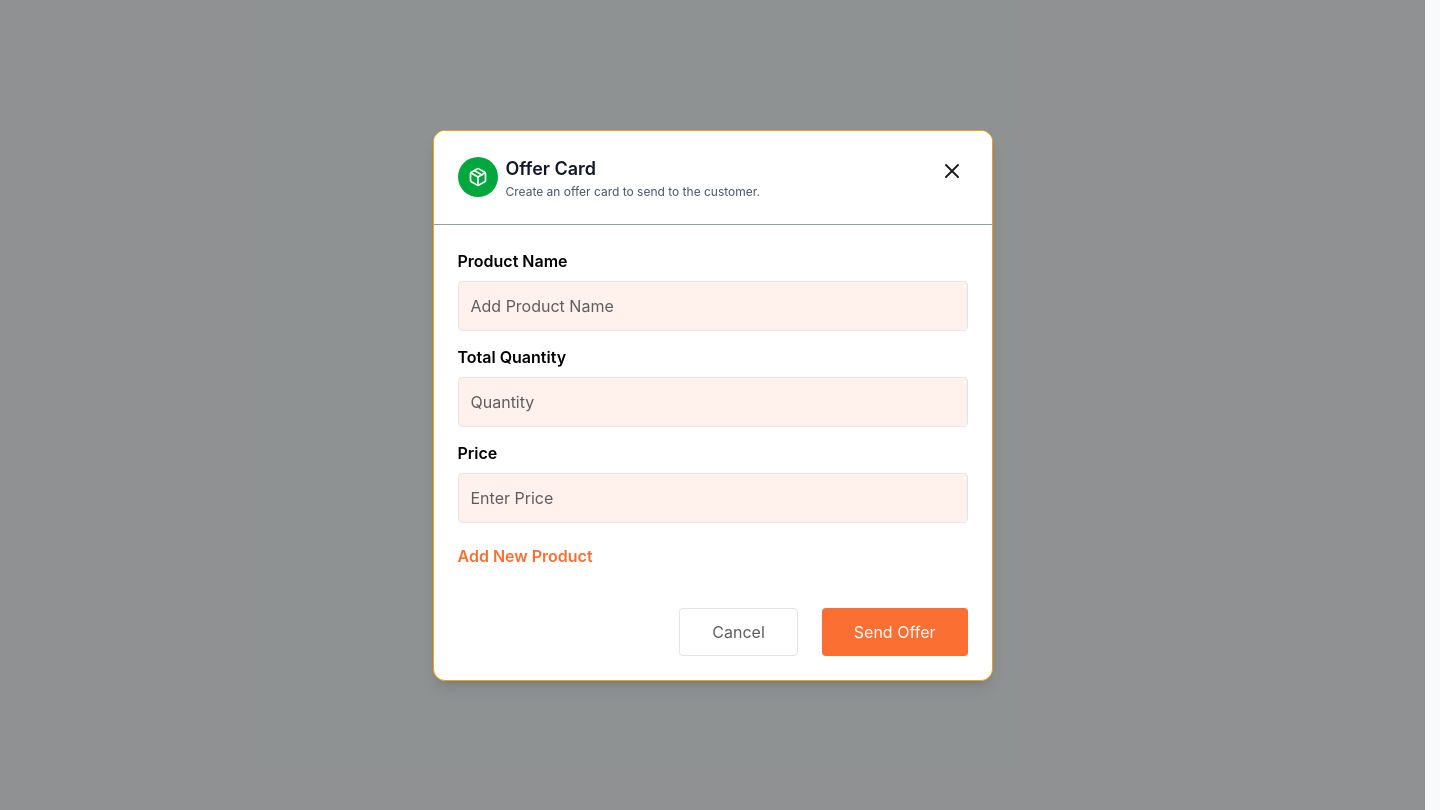
Test: BookingsCreateOfferModal › adds another product row when Add New Product is clicked
Click the button "Add New Product": (525, 556) top-left (458, 544), bottom-right (592, 568)
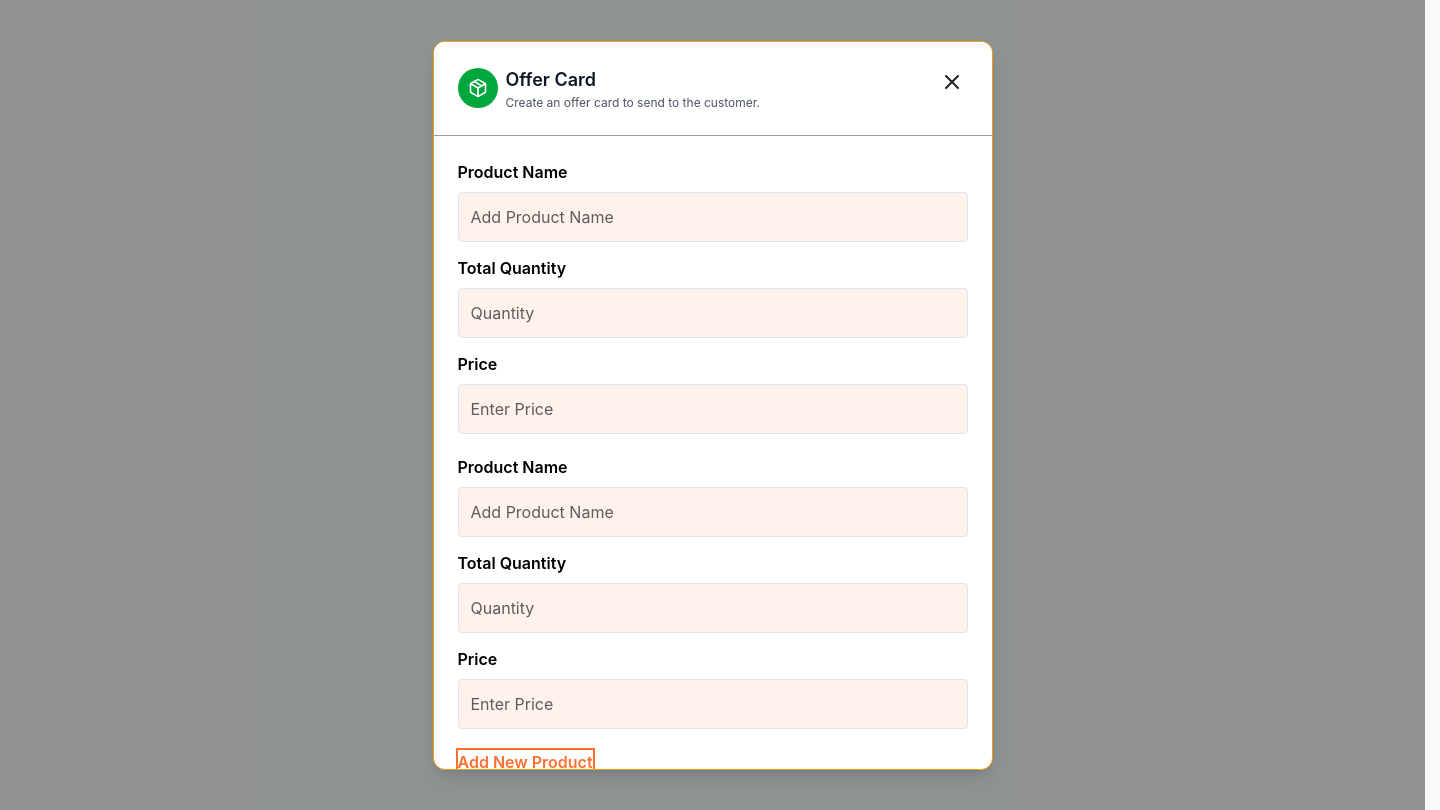
Check: the number of fields labelled "Product Name" is 2, box top-left (458, 192), bottom-right (968, 242); top-left (458, 486), bottom-right (968, 536)
